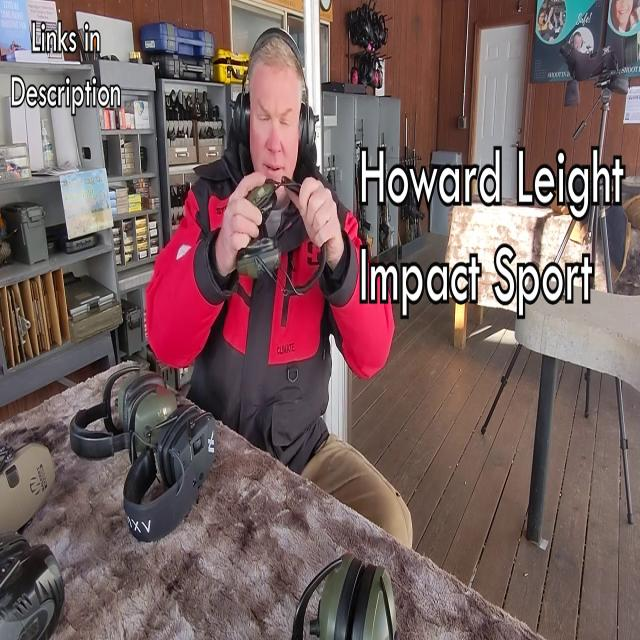earmuff: (232, 237, 284, 283), (238, 171, 279, 229), (296, 98, 322, 162), (228, 84, 252, 153)
